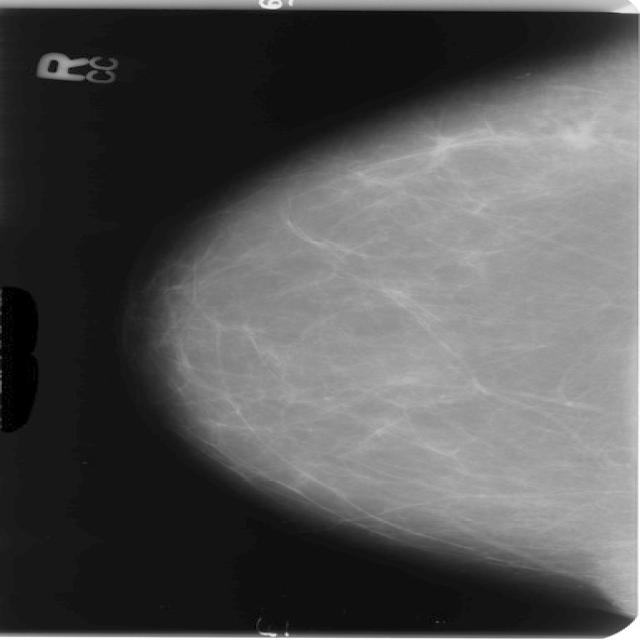tumour: (556, 120, 598, 149)
